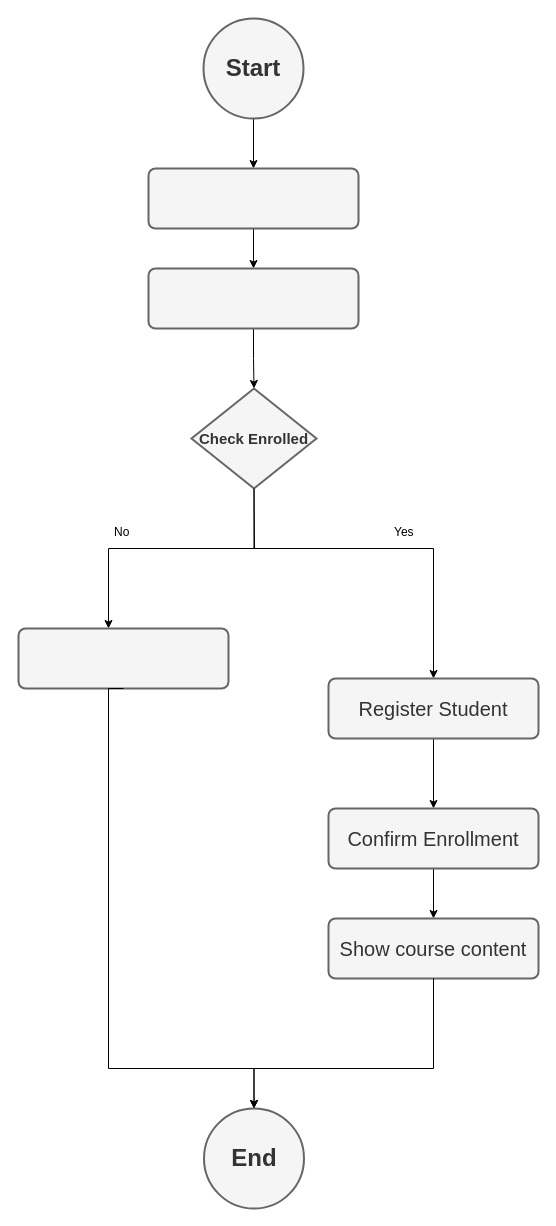
This 556x1226 diagram has some shape labels left out. Here are the shapes that lost their labels. From the top down, the centre of each, then its label:
point 253,198: Browse Courses
point 253,298: Select Course
point 123,658: Show Message that the course is already exists
